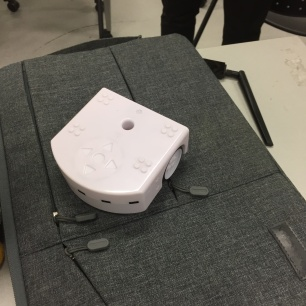thymio: (50, 82, 190, 221)
